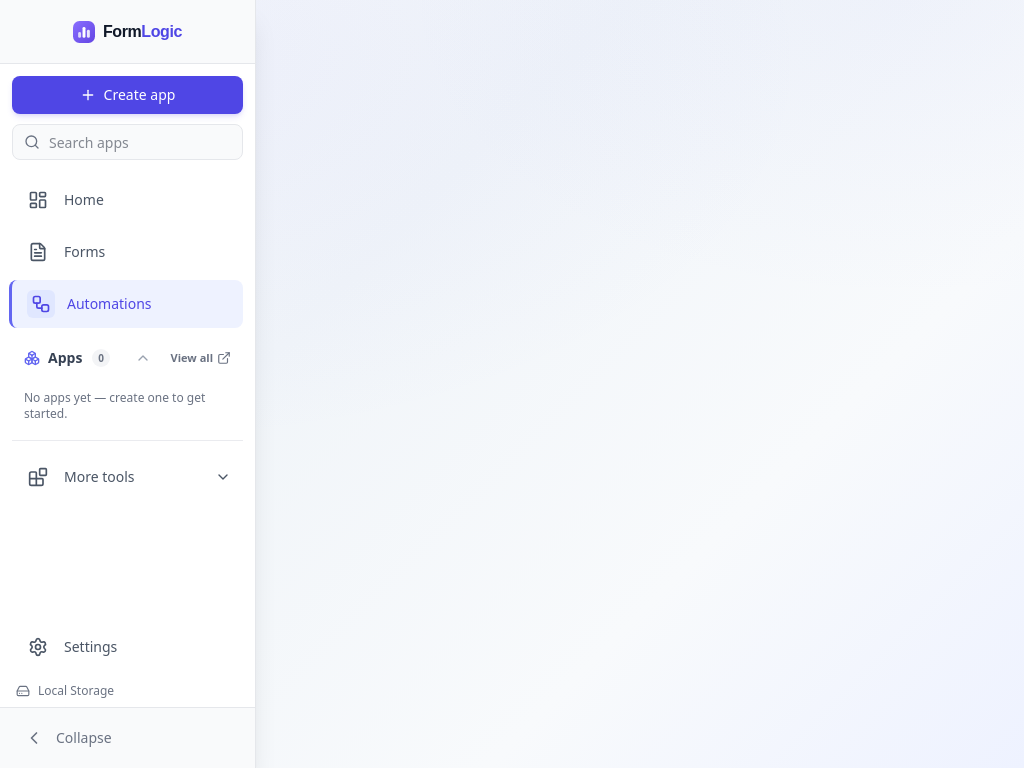
Test: Sidebar (app-first) › keeps Forms and Automations visible while More tools can be expanded
Expected: the link to "/forms" is shown, [28,242,105,262]
Expected: the link to "/flows" reads "Automations", [9,280,243,328]
What coordinates should you click on to do the following:
click the button "More tools"
I would click on:
 (128, 477)
Its box is [12,453,243,501].
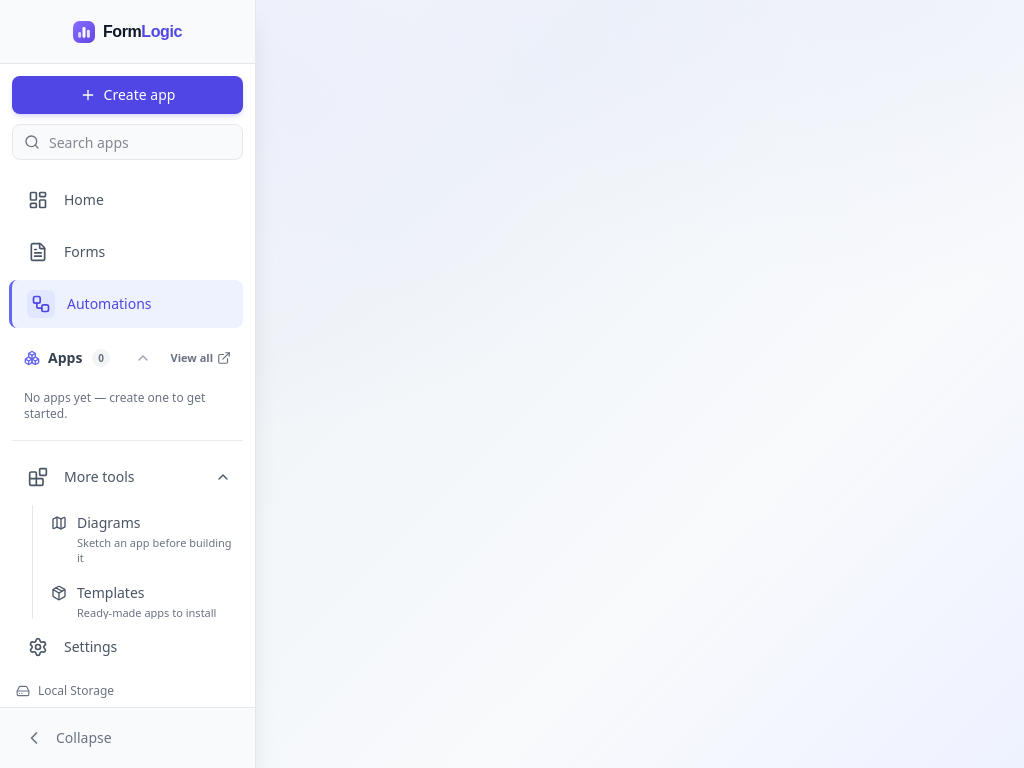
Now the button "More tools" is expanded, box [12,453,243,501]
Now the link to "/diagrams" is shown, box [41,505,243,573]
